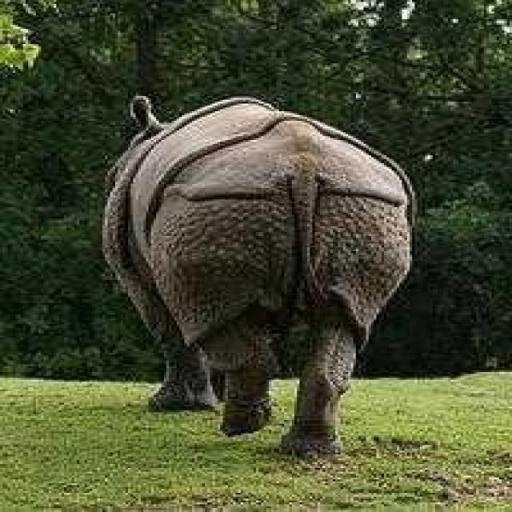Rhino: (100, 92, 414, 458)
